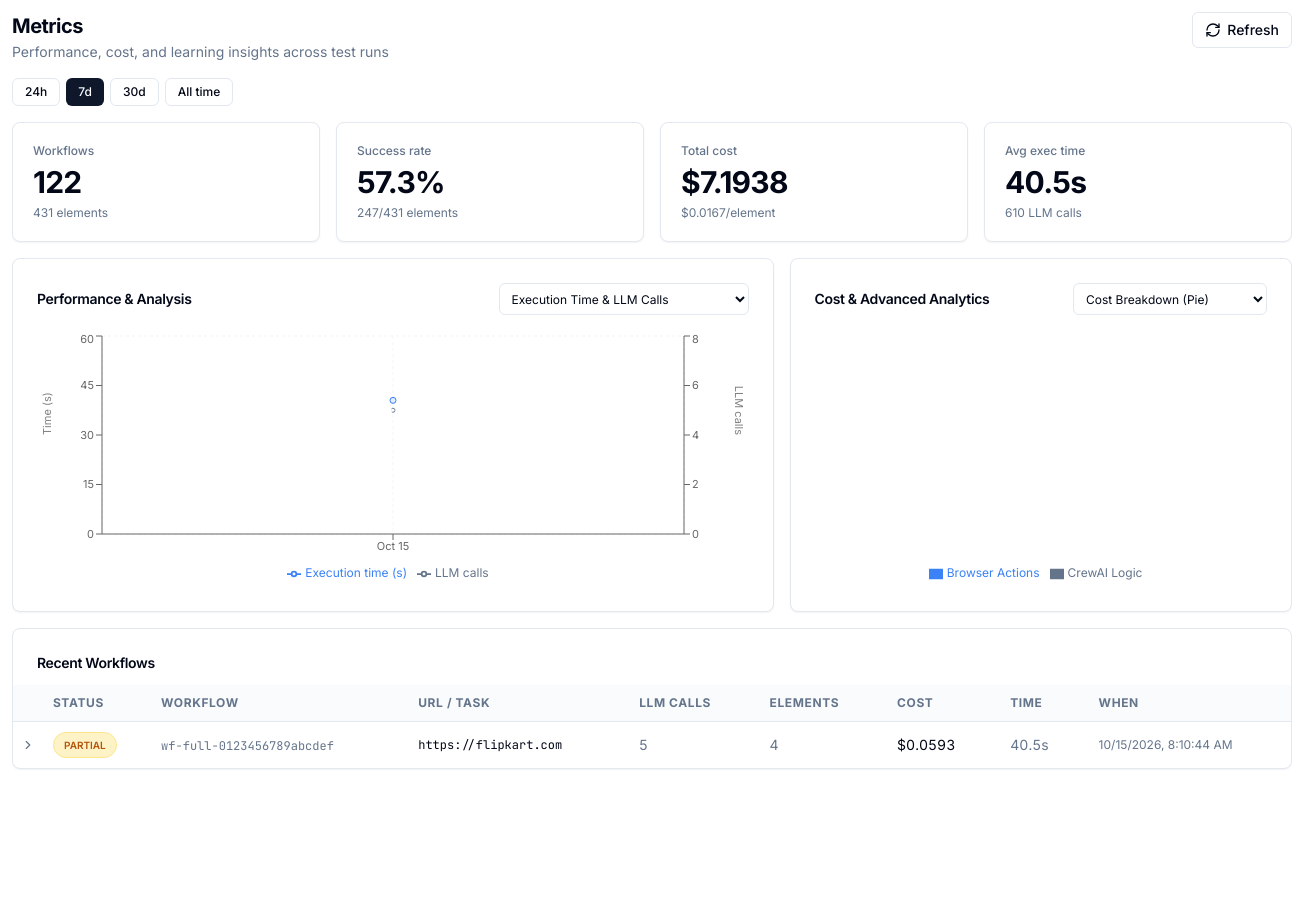
Test: MetricsPage — the window filter › switches the aggregate to the window that was clicked
Click the button "24h": (36, 92) [12,78,60,106]
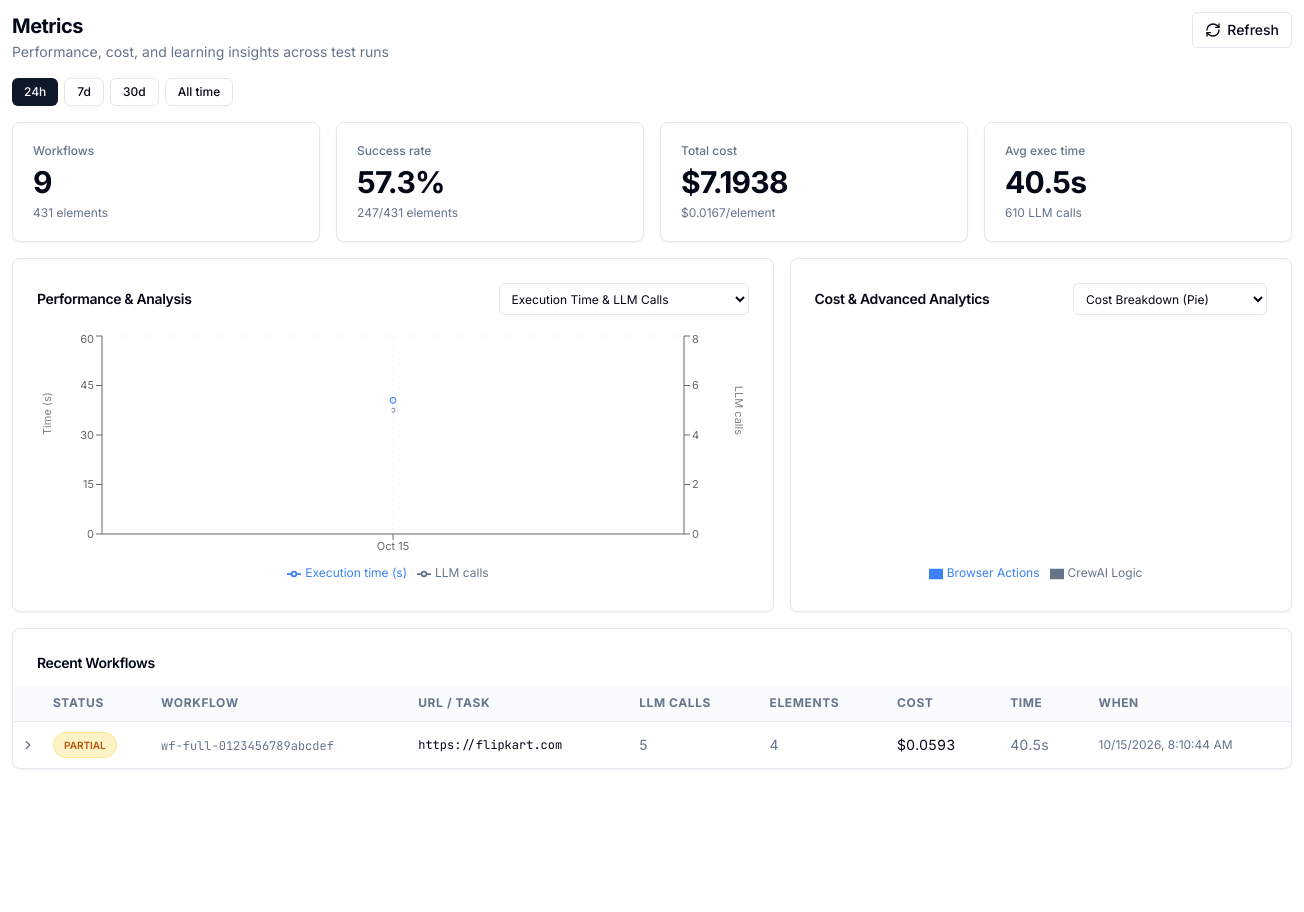
Result: the text "9" is shown at [33,164,52,200]
